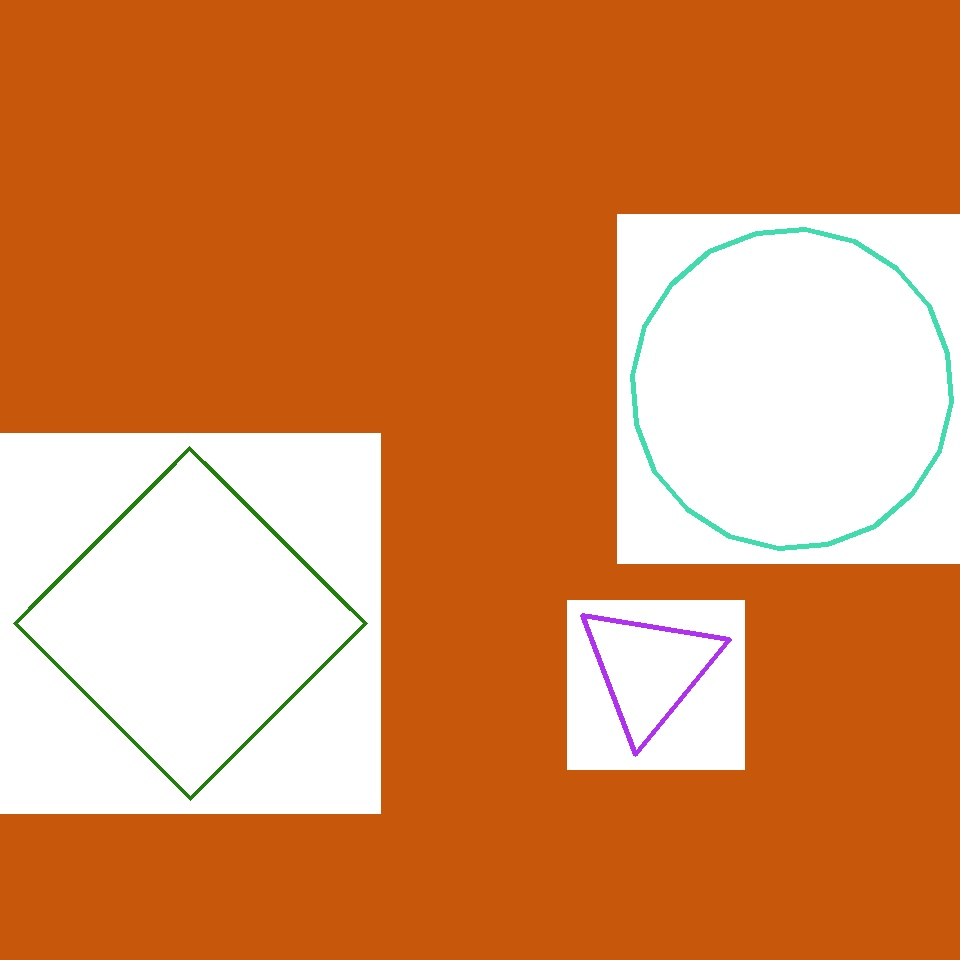circle: (268, 426, 566, 708), (576, 600, 722, 740)
square: (15, 448, 365, 798), (22, 262, 314, 554)
triangle: (410, 262, 779, 632), (632, 230, 952, 548), (546, 214, 822, 490), (652, 396, 766, 512)
